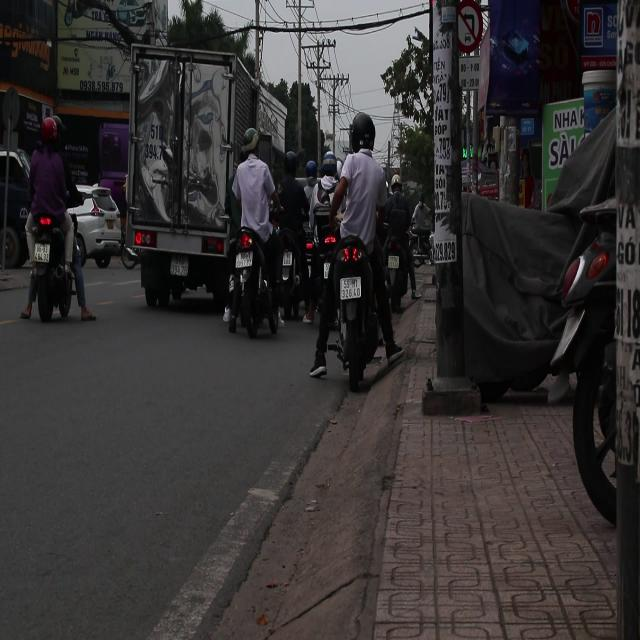car: (73, 188, 124, 268)
motorbike: (337, 230, 377, 390), (227, 226, 279, 341), (31, 225, 78, 309)
truck: (124, 35, 264, 314)
